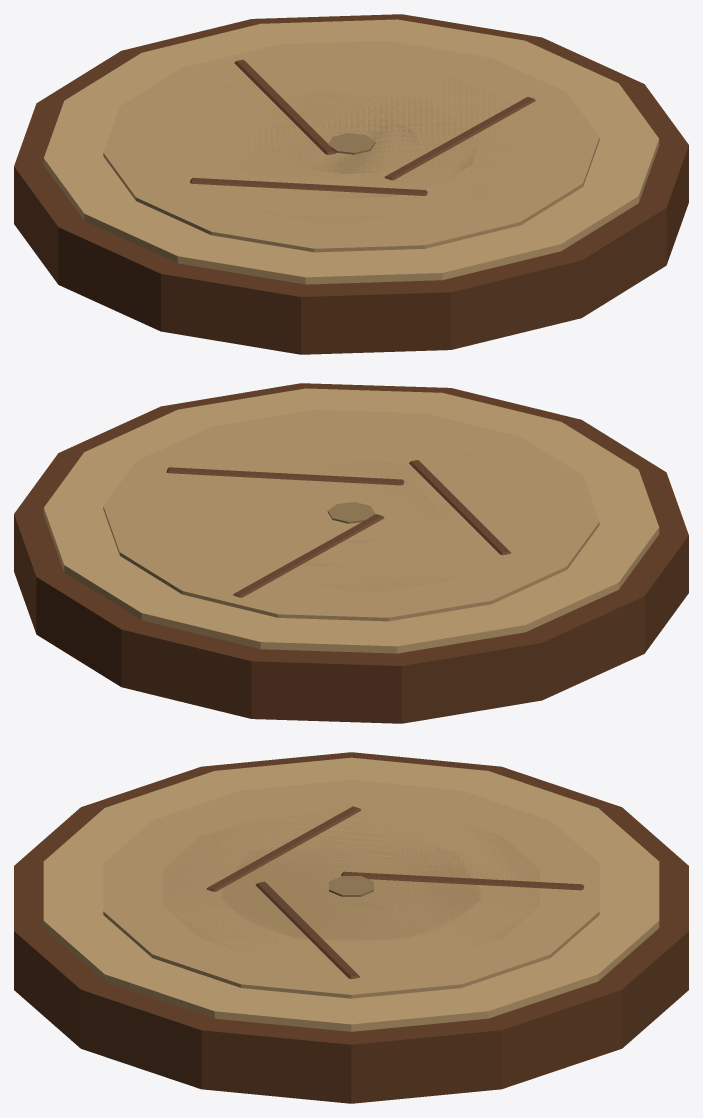
File: PathRound.glb
3 renders of one model, top to bottom at view 1: azimuth 30°, elevation 25°; view 2: azimuth 150°, elevation 25°; view 3: azimuth 270°, elevation 25°, orthographic. The views are drawn at different scales.
Parts seen in each view (by area): view 1: Body; view 2: Body; view 3: Body.
Part boxes in pixels (left/top/right/bottom): Body: left=14, top=14, right=688, bottom=354; Body: left=14, top=383, right=688, bottom=723; Body: left=14, top=752, right=688, bottom=1103.
Bounding box in the file's own units: 3.4 × 0.39 × 3.31.
